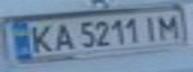1: (121, 15, 142, 44), (109, 16, 127, 45)
2: (93, 17, 112, 47)
5: (75, 18, 96, 50)
A: (48, 20, 78, 52)
I: (139, 12, 163, 42)
K: (24, 21, 57, 54)
M: (154, 11, 184, 40)
